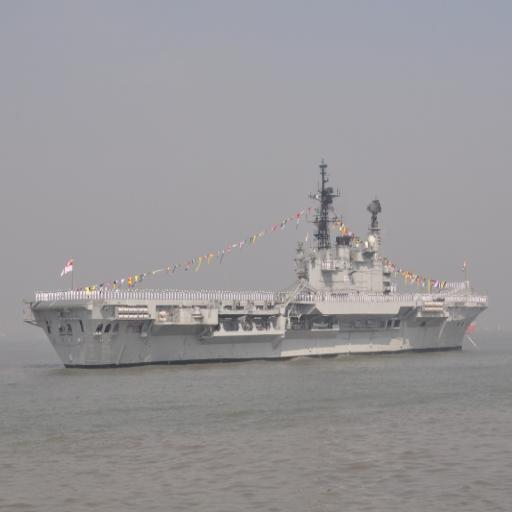Portanaves: (24, 157, 491, 375)
